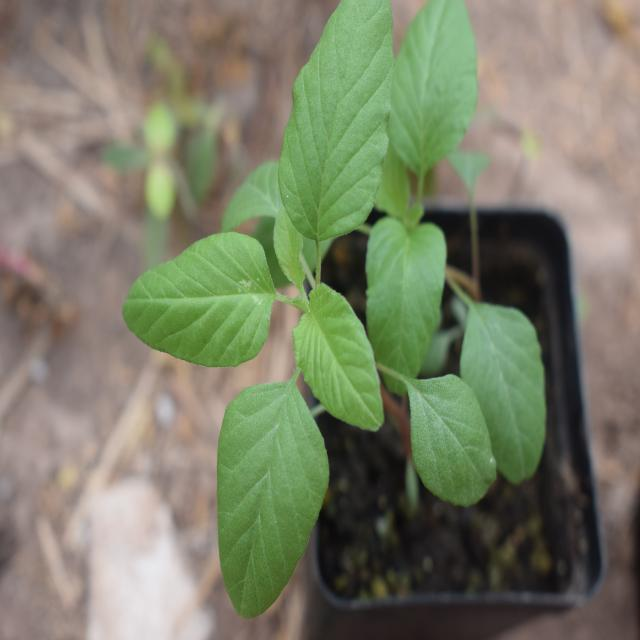pigweed: (147, 4, 481, 592)
